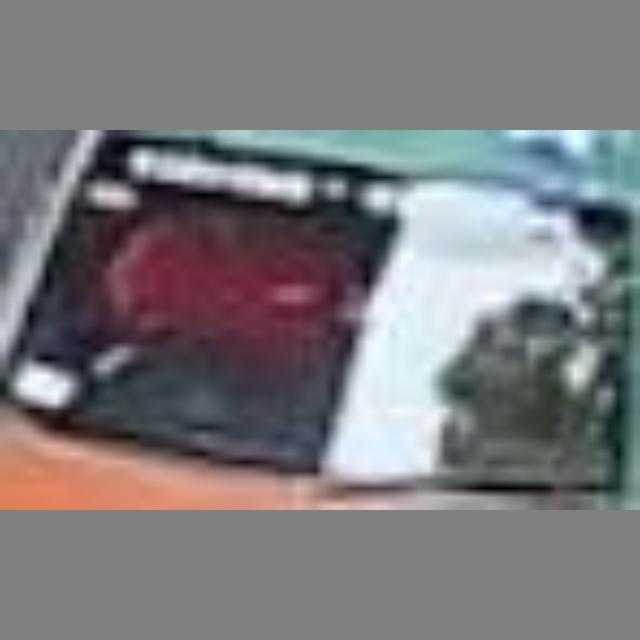tidak-pakai: (95, 199, 406, 381)
